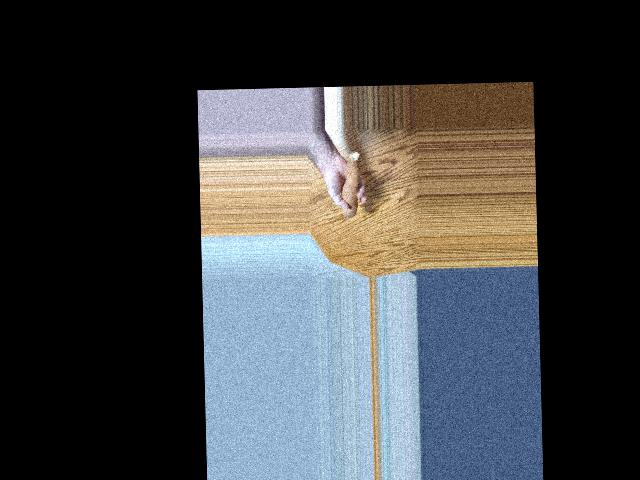sweet_potato: (339, 156, 362, 213)
